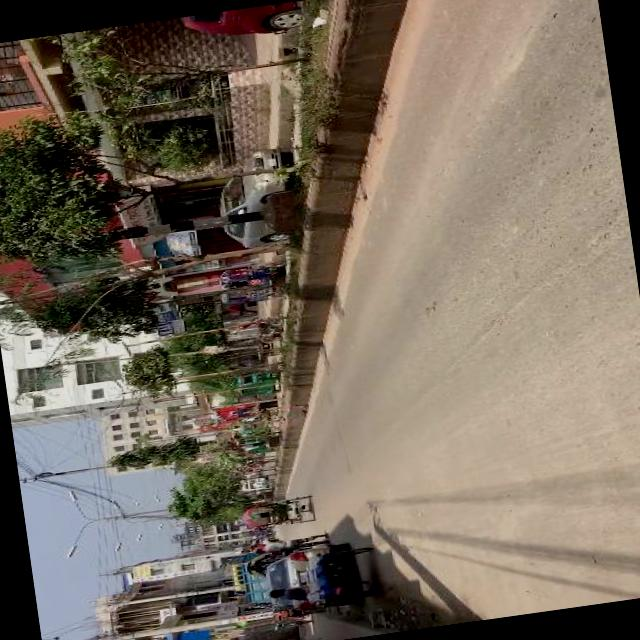car: (205, 144, 298, 252), (177, 1, 301, 50), (265, 542, 347, 616)
motorcycle: (240, 496, 313, 530), (235, 370, 280, 400), (252, 314, 282, 338)
